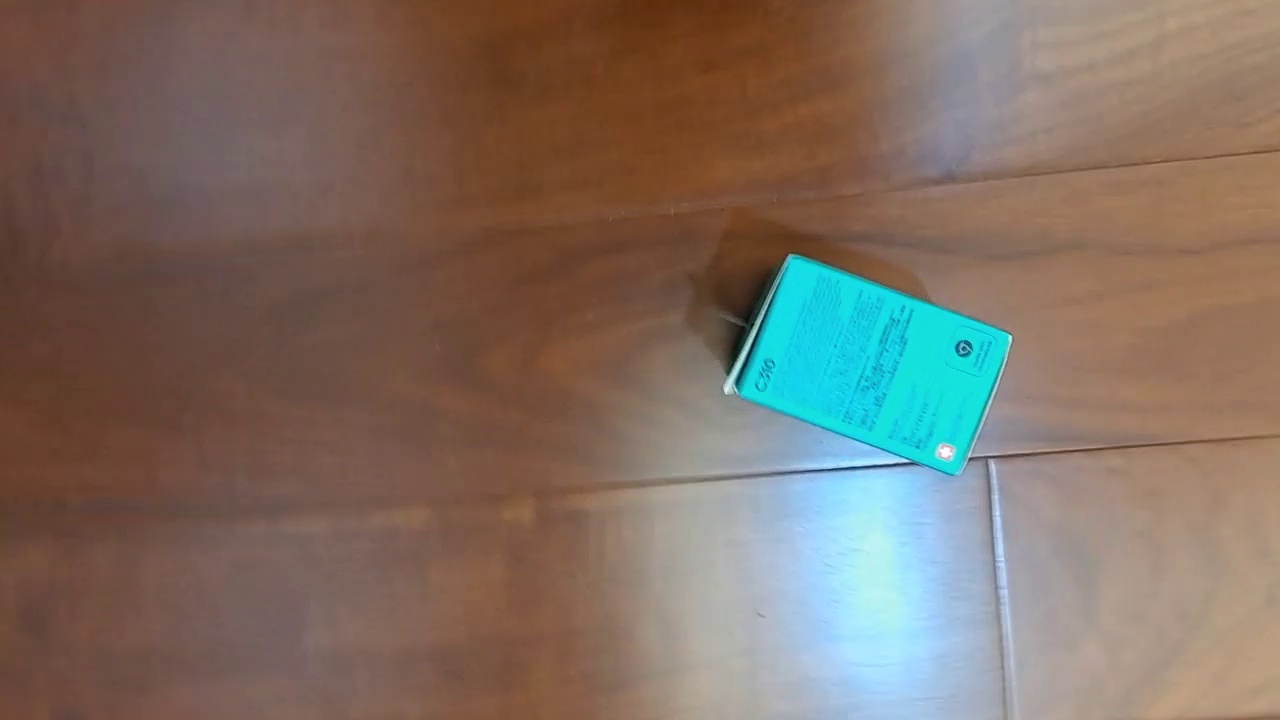webcam: (722, 253, 1014, 478)
